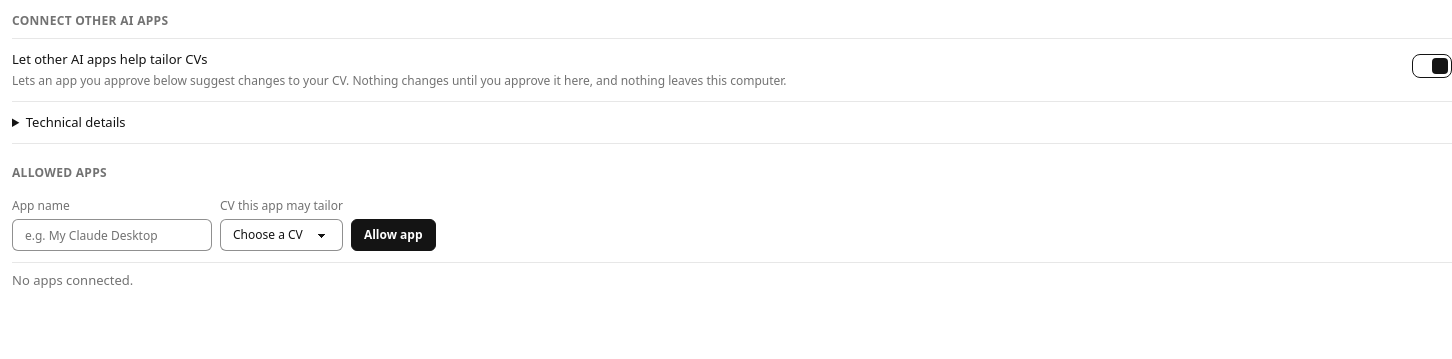
it: McpEndpointSection (#421) › refuses to create a grant with no CV chosen
expect the text "No apps connected." is shown: met, box [12,271,133,289]
In the field labelled "App name": (112, 235) [12,219,212,251], type "New Client"
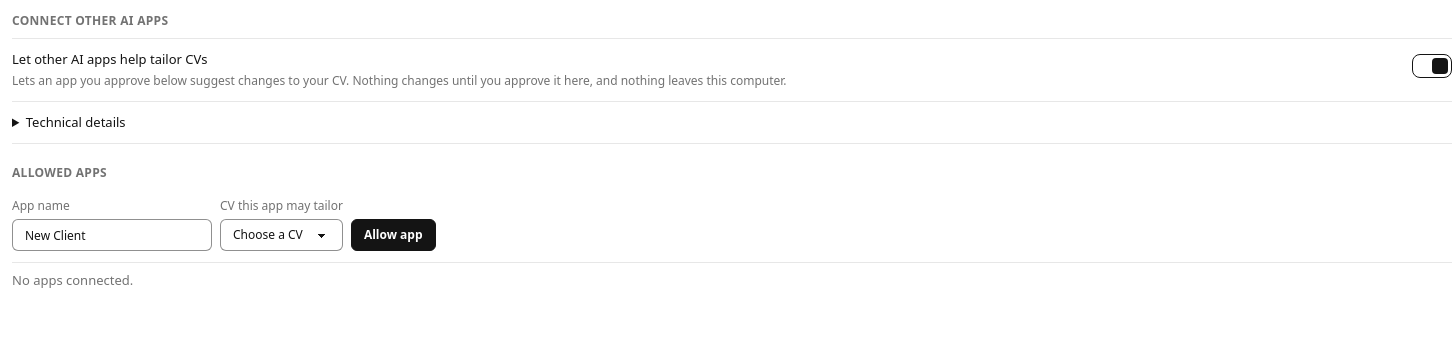
Click the button "Allow app": (393, 235) [351,219,436,251]
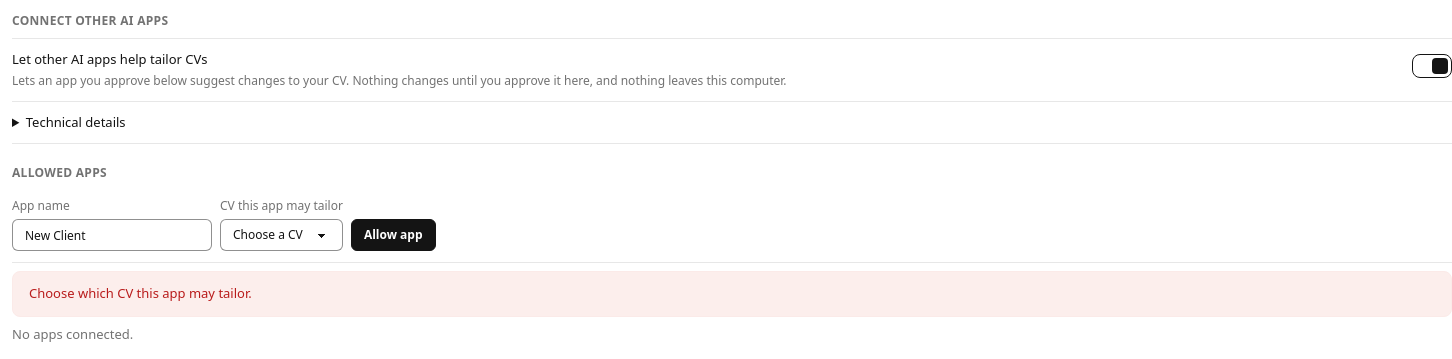
expect the text "Choose which CV this app may tailor." is shown: met, box [29,284,252,304]
